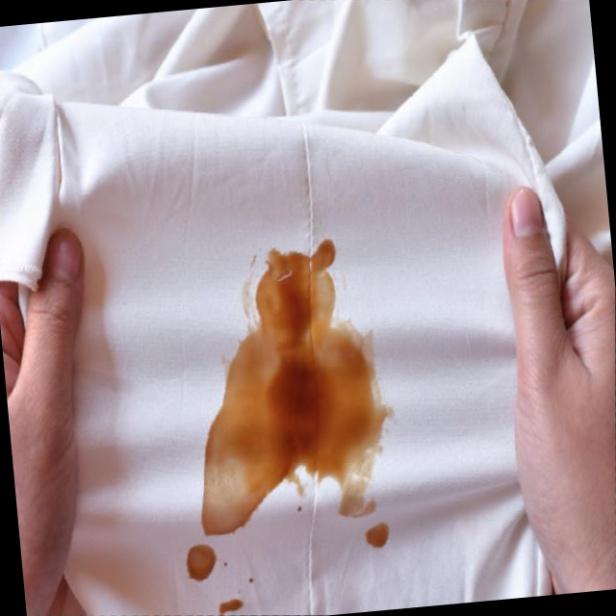coffee: (210, 225, 388, 525), (180, 543, 220, 585), (363, 524, 394, 553)
